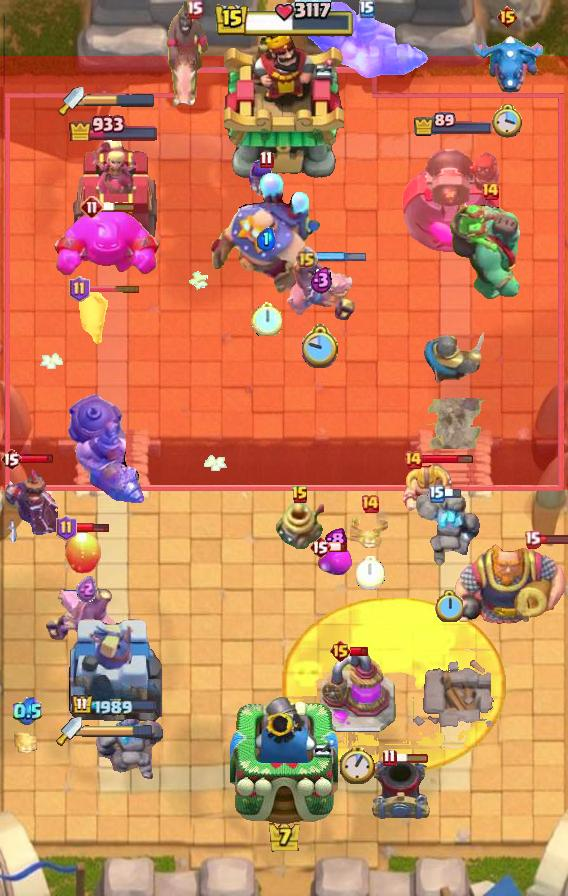bar: (66, 611, 162, 731), (70, 138, 158, 256)
clock: (213, 0, 355, 40)
clone: (51, 206, 163, 278)
electro-spirit: (14, 698, 43, 727), (310, 266, 333, 294), (75, 576, 96, 602), (324, 529, 347, 552), (256, 227, 276, 251)
elixir: (302, 324, 340, 368), (341, 746, 376, 784), (493, 105, 523, 140), (251, 301, 281, 336), (355, 556, 384, 590), (435, 590, 463, 622)
elixir-golem-big: (0, 460, 58, 546)
emote: (315, 251, 366, 263), (421, 455, 474, 466), (87, 284, 141, 293), (101, 201, 137, 213), (394, 752, 430, 764), (75, 522, 110, 534), (17, 453, 54, 464), (538, 535, 568, 546), (328, 541, 348, 553), (443, 488, 462, 499), (351, 647, 370, 658)
firecracker: (422, 332, 484, 384)
fisherman: (427, 398, 485, 449)
freeze: (165, 0, 223, 112), (43, 586, 129, 650), (284, 256, 358, 324)
giant: (74, 290, 108, 348)
giant-skeleton: (452, 540, 568, 630)
goblin: (246, 159, 276, 197)
goblin-drill: (276, 501, 324, 549)
goblin-giant: (401, 464, 453, 512)
graveyard: (471, 33, 543, 95)
hog: (63, 531, 103, 575)
ice-spirit-evolution: (350, 518, 390, 550), (14, 726, 40, 754)
king-tower: (224, 29, 344, 181), (230, 692, 338, 826)
king-tower-bar: (84, 93, 156, 107), (82, 724, 154, 738)
lava-hound: (448, 199, 532, 305)
little-prince: (210, 171, 322, 295)
miner: (317, 547, 353, 577)
musketeer: (370, 755, 432, 823)
pekka: (318, 652, 396, 734)
phoenix-egg: (282, 597, 506, 775)
selected: (68, 112, 160, 140), (70, 694, 157, 718), (414, 112, 495, 137)
text: (80, 195, 104, 219), (69, 276, 91, 302), (496, 5, 519, 29), (329, 639, 352, 663), (55, 515, 76, 541), (294, 246, 317, 269), (0, 447, 22, 471), (309, 535, 331, 559), (480, 181, 500, 201), (403, 450, 423, 470), (360, 494, 380, 514), (291, 485, 309, 505), (185, 1, 202, 20), (524, 531, 541, 550), (359, 0, 375, 18), (429, 485, 445, 503), (383, 749, 398, 767), (259, 150, 273, 169)
tower-bar: (401, 138, 505, 256)
valkyrie-evolution: (412, 490, 486, 572), (92, 714, 164, 782)
wizard: (305, 1, 429, 79), (65, 392, 147, 506)
